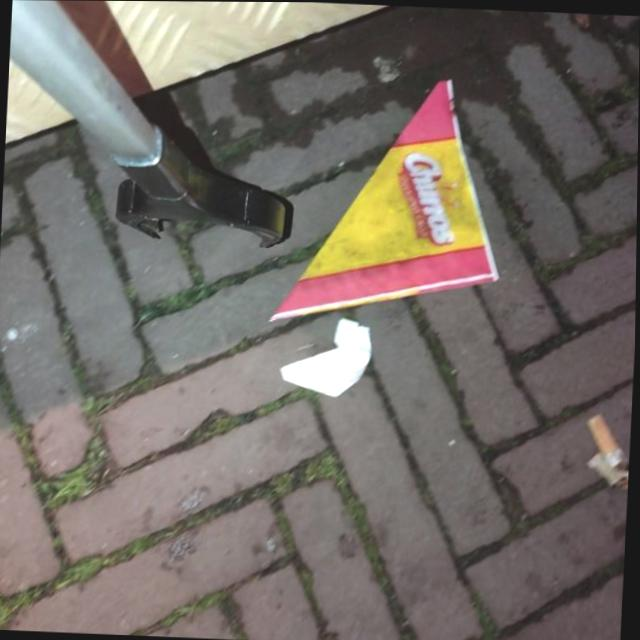Paper: (266, 69, 510, 333), (277, 315, 375, 399)
